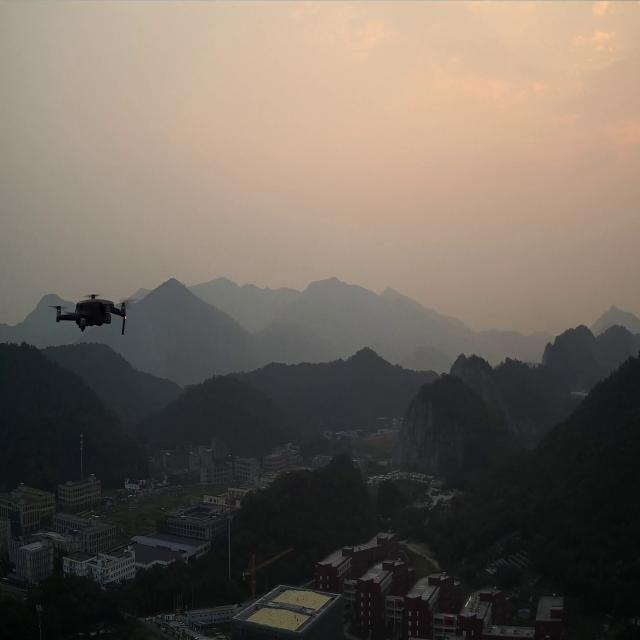UAV: (48, 290, 140, 338)
